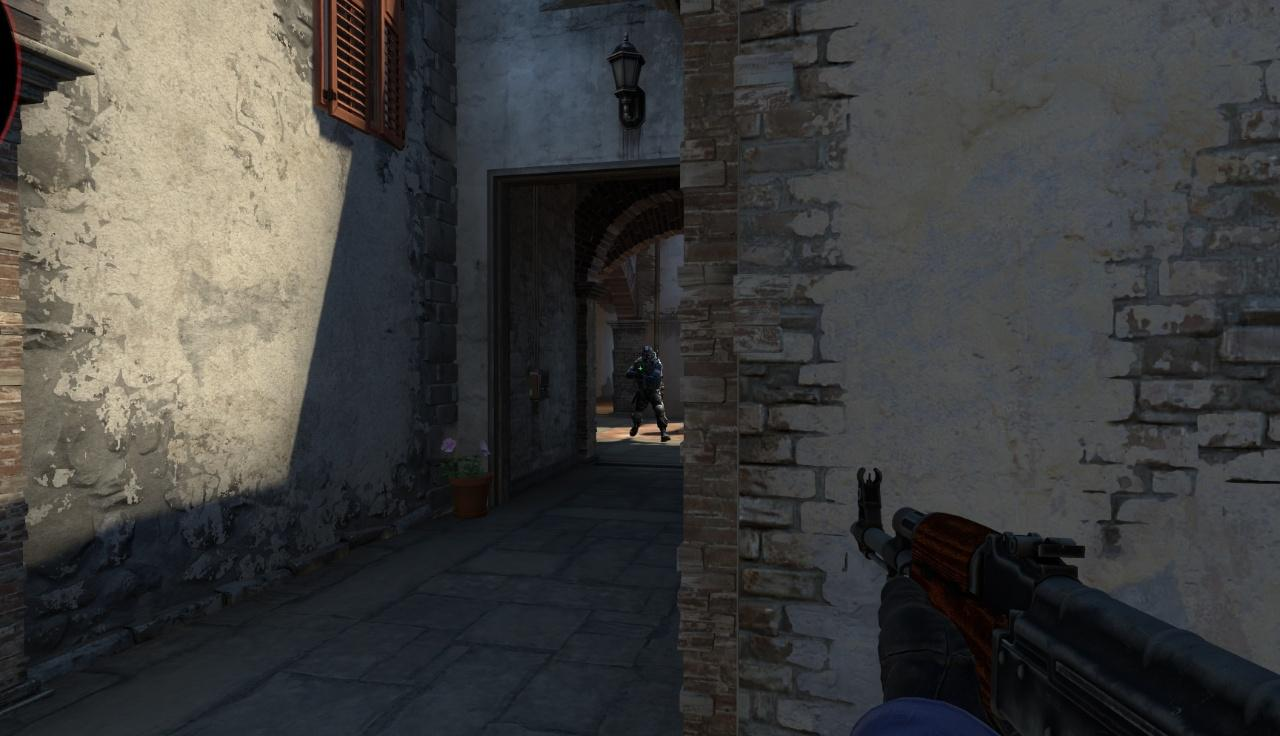ct: (632, 346, 667, 440)
cthead: (641, 346, 655, 364)
rifle: (851, 461, 1277, 736)
